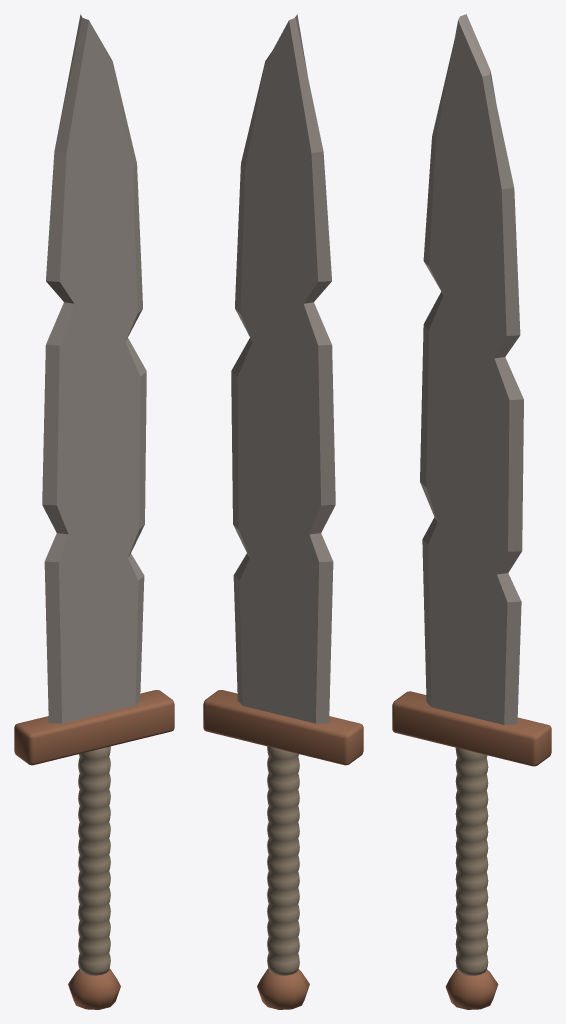
The model's file is koloss_greatsword.glb.
3 views of the same model, side by side, from view 1: azimuth 30°, elevation 25°; view 2: azimuth 150°, elevation 25°; view 3: azimuth 330°, elevation 25° (orthographic).
Parts seen in each view (by area): view 1: koloss_greatsword_blade, koloss_greatsword_grip, koloss_greatsword_guard, koloss_greatsword_pommel; view 2: koloss_greatsword_blade, koloss_greatsword_grip, koloss_greatsword_guard, koloss_greatsword_pommel; view 3: koloss_greatsword_blade, koloss_greatsword_grip, koloss_greatsword_guard, koloss_greatsword_pommel.
Part boxes in pixels (x1=…): koloss_greatsword_blade: x1=42, y1=14, x2=146, y2=723; koloss_greatsword_grip: x1=78, y1=746, x2=110, y2=975; koloss_greatsword_guard: x1=14, y1=690, x2=174, y2=765; koloss_greatsword_pommel: x1=68, y1=968, x2=120, y2=1009; koloss_greatsword_blade: x1=231, y1=14, x2=335, y2=723; koloss_greatsword_grip: x1=267, y1=746, x2=299, y2=975; koloss_greatsword_guard: x1=203, y1=690, x2=363, y2=765; koloss_greatsword_pommel: x1=257, y1=968, x2=309, y2=1009; koloss_greatsword_blade: x1=420, y1=14, x2=523, y2=724; koloss_greatsword_grip: x1=455, y1=747, x2=488, y2=975; koloss_greatsword_guard: x1=392, y1=691, x2=551, y2=766; koloss_greatsword_pommel: x1=445, y1=969, x2=498, y2=1009.
Size of the model in its own units: 0.24 by 1.56 by 0.0723.
